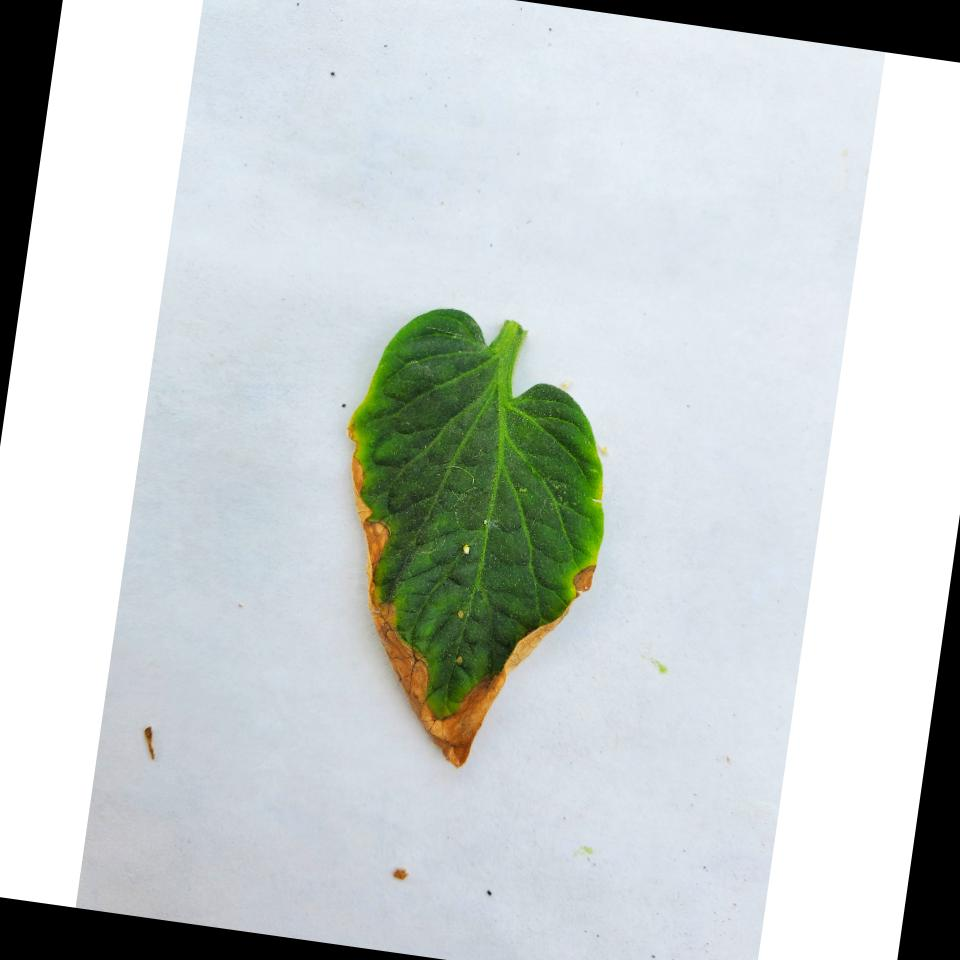tomato_bacterial_blight: (314, 289, 642, 792)
